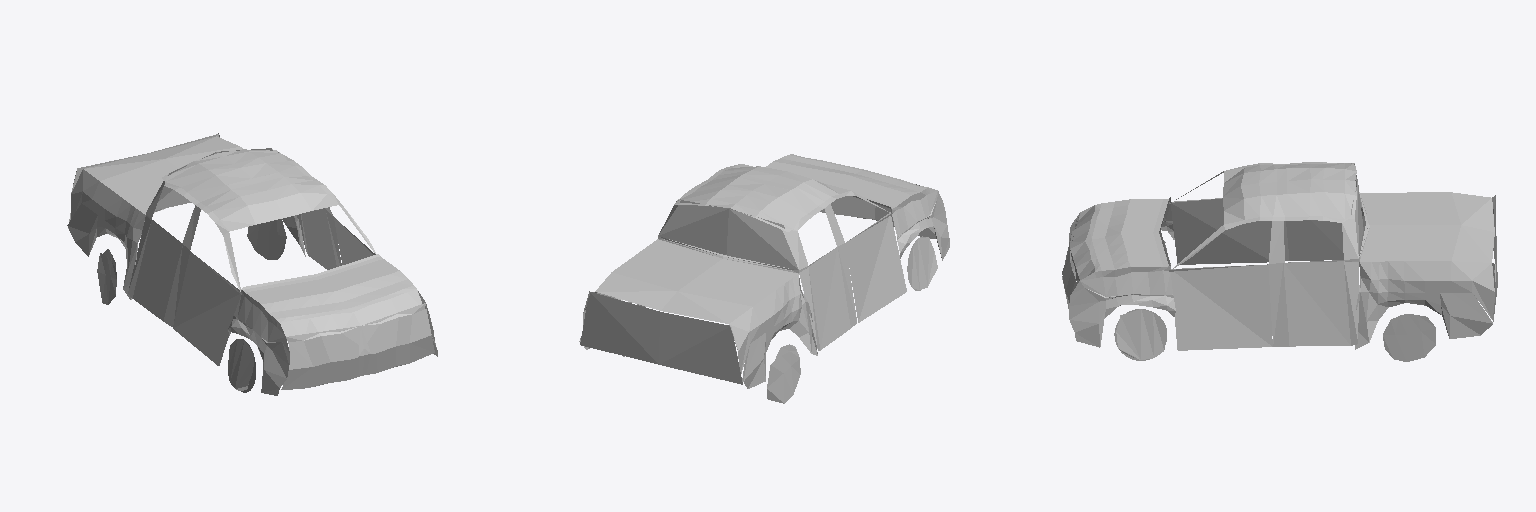
The model's file is toyota.obj.
The picture shows the model from 3 angles: view 1: azimuth 30°, elevation 25°; view 2: azimuth 150°, elevation 25°; view 3: azimuth 270°, elevation 25°; orthographic projection.
Visible parts, largest first — view 1: Plane, Circle, Circle.001; view 2: Plane, Circle.001; view 3: Plane, Circle.
Boxes of the visible parts, box(x1,y1,x2,y2) form: Plane: box(67, 133, 437, 395); Circle: box(247, 219, 286, 259); Circle.001: box(97, 249, 116, 304); Plane: box(579, 154, 949, 388); Circle.001: box(767, 344, 800, 403); Plane: box(1062, 162, 1497, 360); Circle: box(1383, 314, 1435, 361).
Size of the model in its own units: 6.23 by 5.06 by 13.